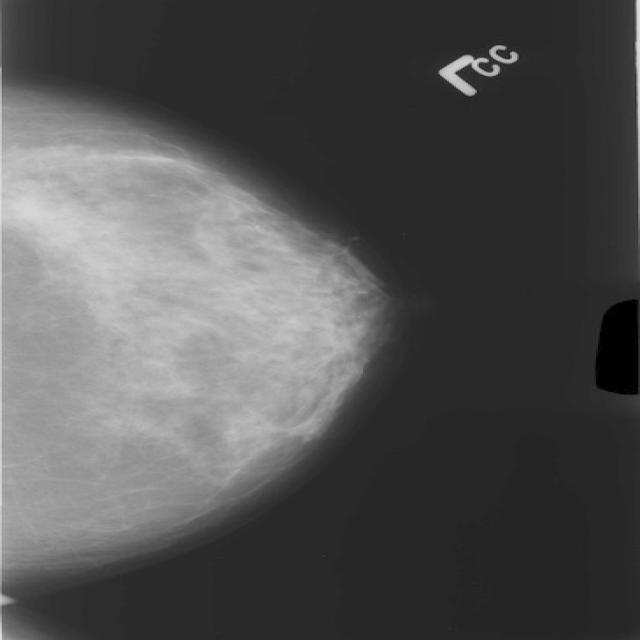tumour: (5, 187, 90, 241)
